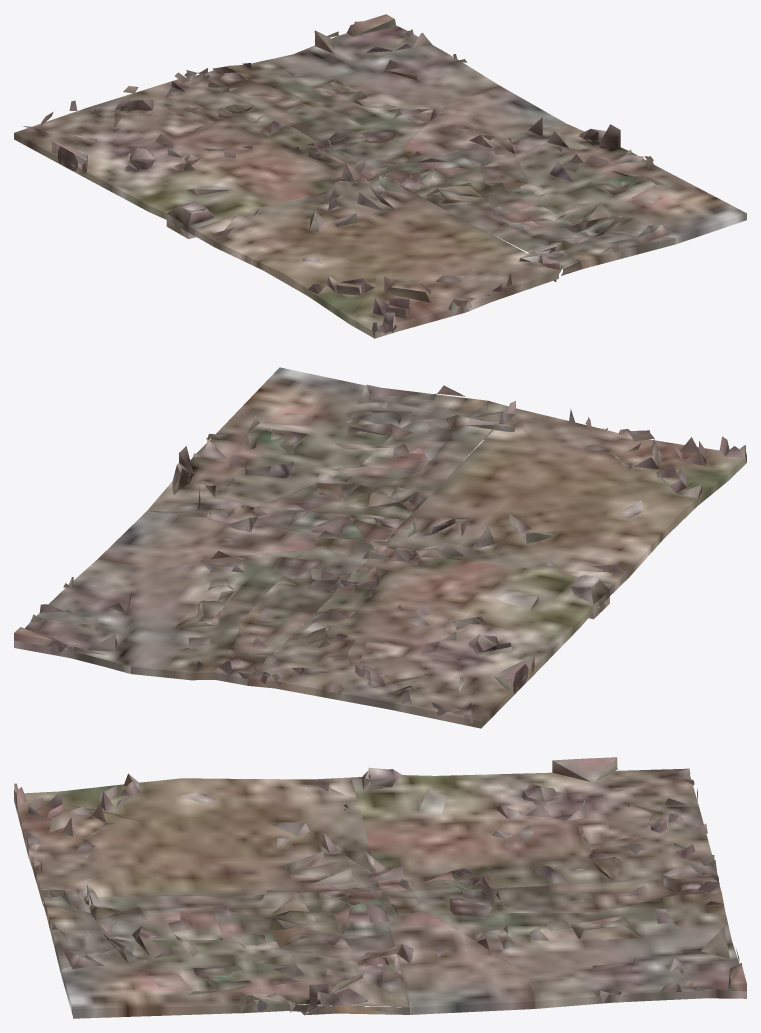
3 views of the same model, one above another, from view 1: azimuth 30°, elevation 25°; view 2: azimuth 150°, elevation 25°; view 3: azimuth 270°, elevation 25° (orthographic). The views are drawn at different scales.
Visible parts, largest first — view 1: Mesh_0; view 2: Mesh_0; view 3: Mesh_0.
Boxes of the visible parts, x1=… form: Mesh_0: x1=14, y1=14, x2=746, y2=338; Mesh_0: x1=14, y1=367, x2=746, y2=728; Mesh_0: x1=14, y1=757, x2=746, y2=1018.
Size of the model in its own units: 1064 by 83.83 by 1318.
Materials: 1 (1 with a texture image).
